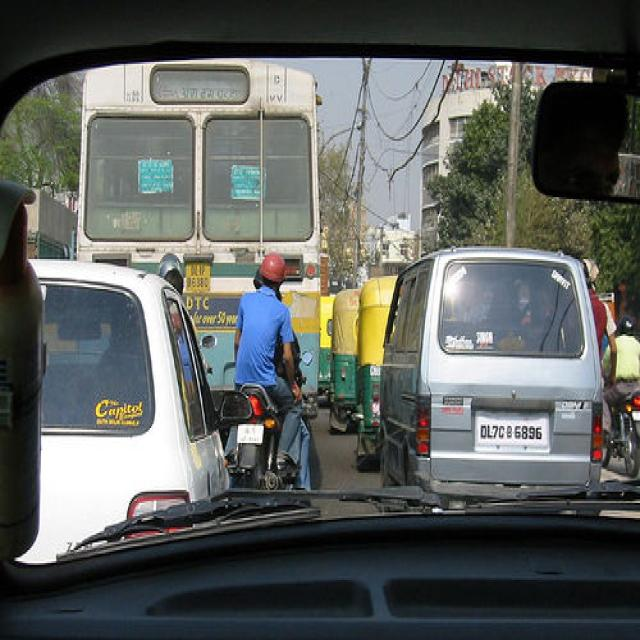motor: (233, 328, 314, 489), (604, 383, 640, 480)
